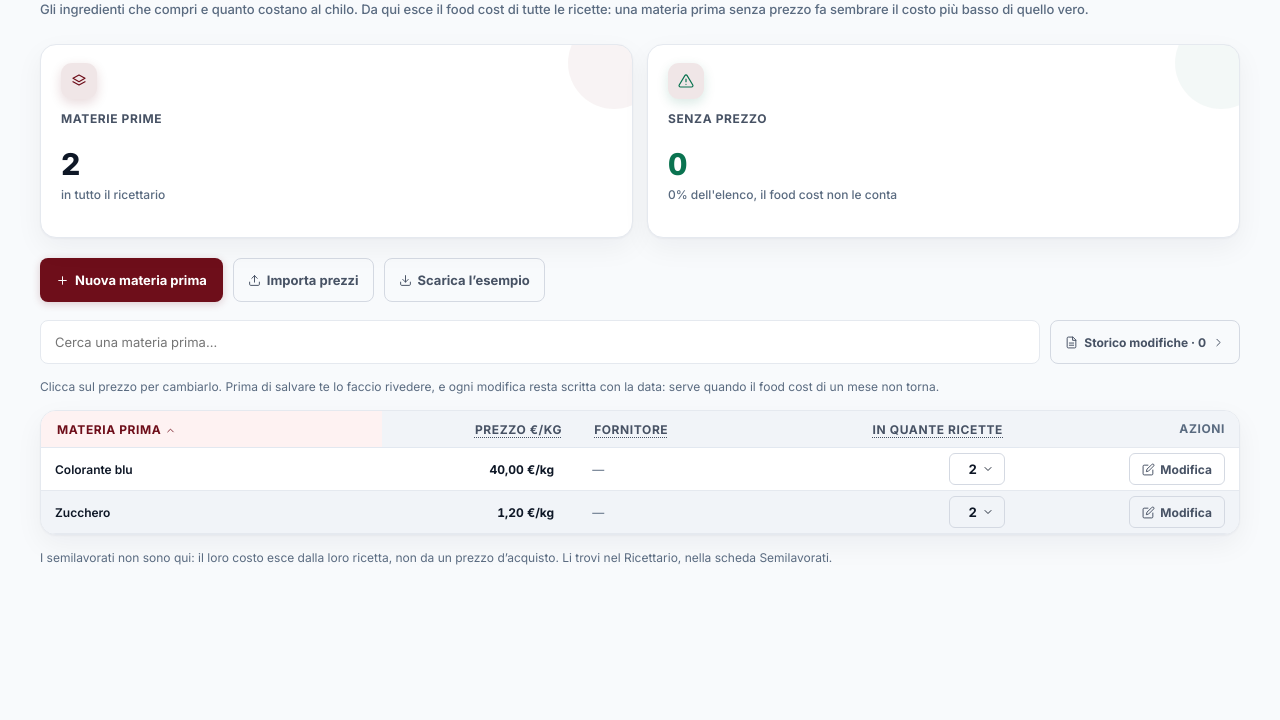
Scenario: non si cancella niente senza aver visto quante ricette la usano › il pulsante rosso è spento finché la casella non è spuntata
Click the button "Modifica" in the row of "Colorante blu" at (1177, 469), box [1129, 453, 1225, 485]
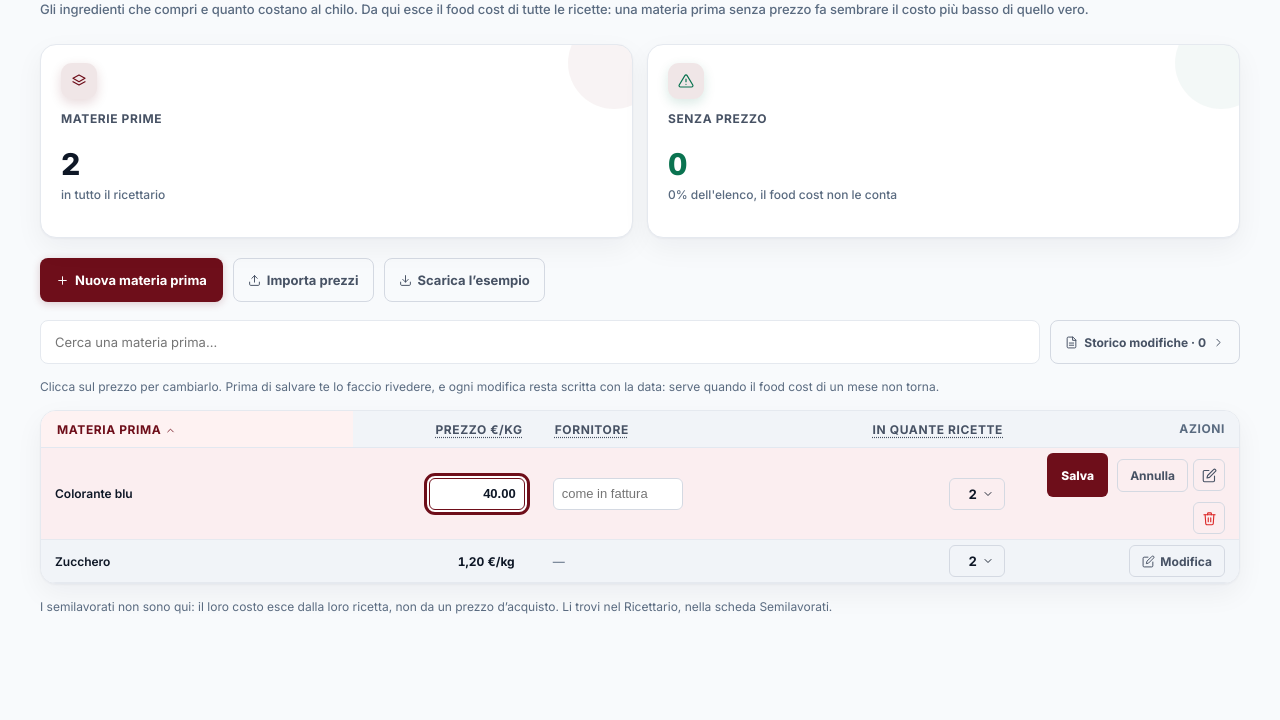
Result: the button named "Elimina colorante blu" is shown
Click the button named "Elimina colorante blu" at (1209, 518), box [1193, 502, 1225, 534]
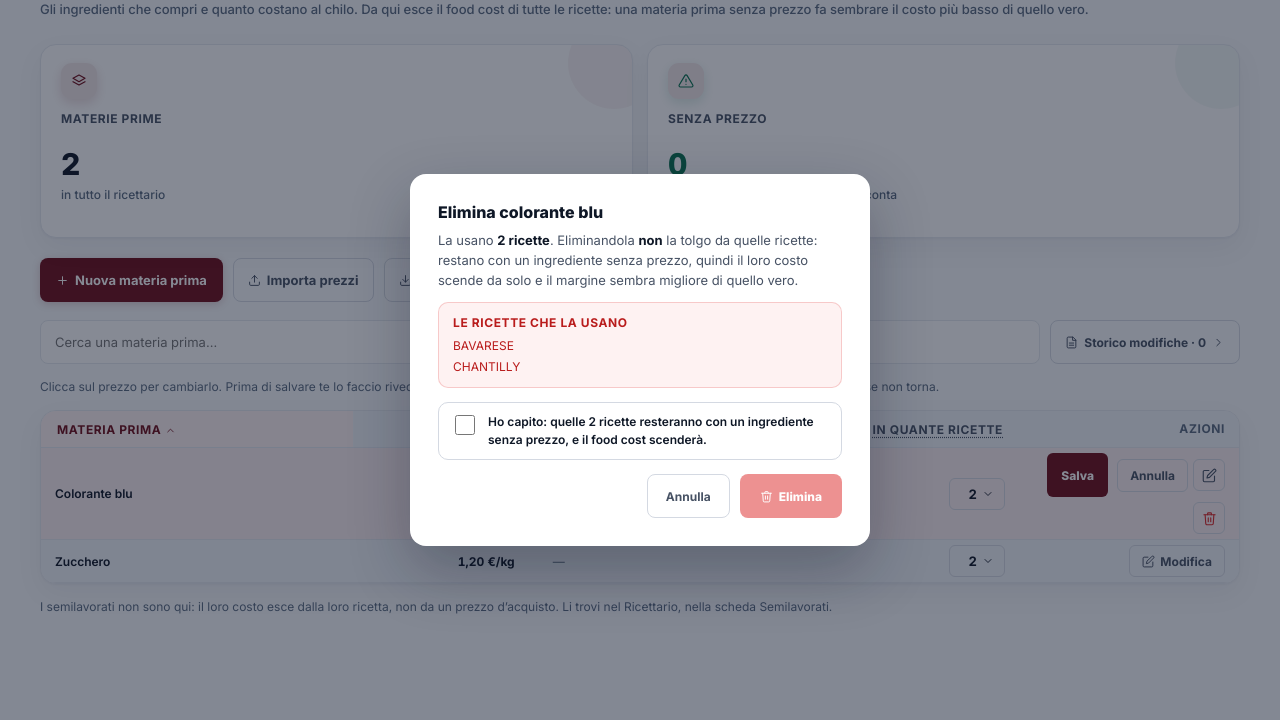
Result: the dialog is shown
Result: the button "Elimina" is disabled at [740, 474, 842, 518]
Click the checkbox at (465, 425), box [455, 415, 475, 435]
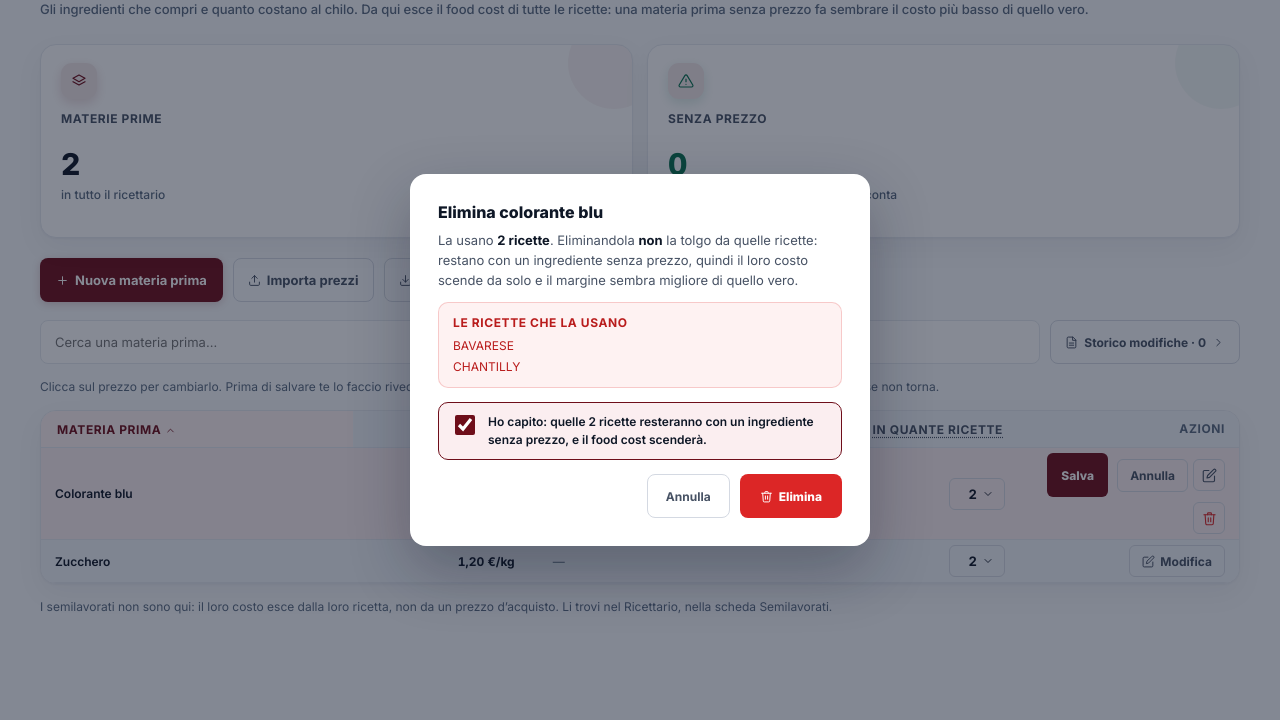
Result: the button "Elimina" is enabled at [740, 474, 842, 518]
